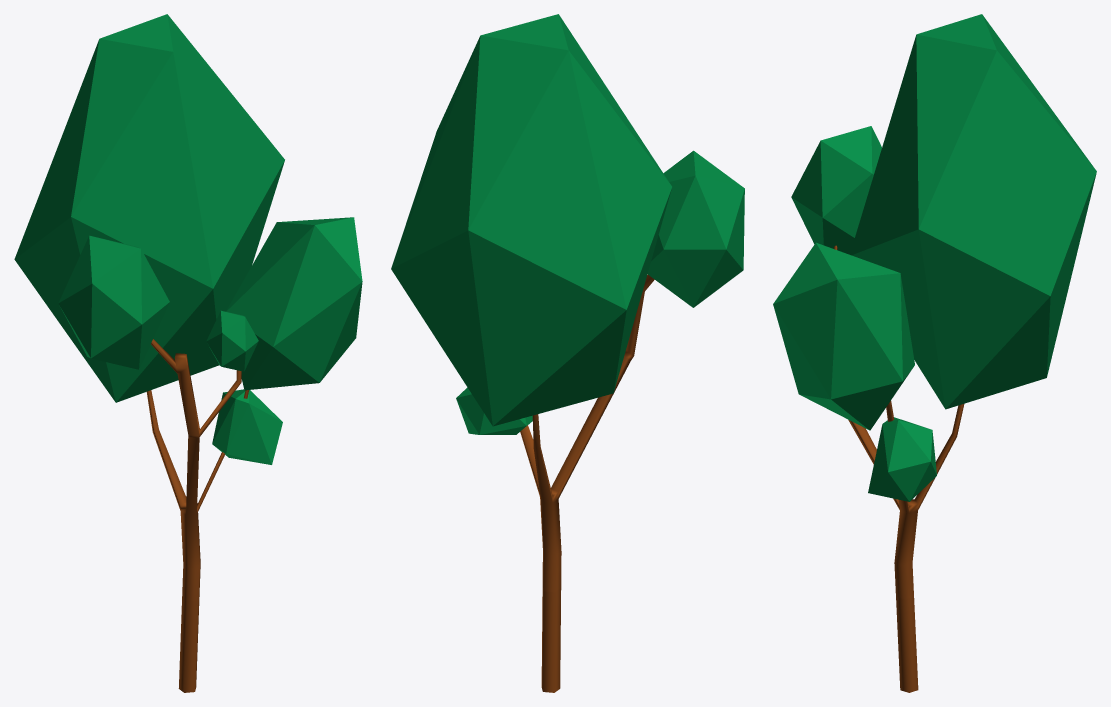
Rendered from Tree_Small.fbx.
3 views of the same model, side by side, from view 1: azimuth 30°, elevation 25°; view 2: azimuth 150°, elevation 25°; view 3: azimuth 270°, elevation 25° (orthographic). The views are drawn at different scales.
Parts seen in each view (by area): view 1: Tree_Small_Foliage, Tree_Small_Trunk, Tree_Small_Base; view 2: Tree_Small_Foliage, Tree_Small_Trunk, Tree_Small_Base; view 3: Tree_Small_Foliage, Tree_Small_Trunk, Tree_Small_Base.
Part boxes in pixels (x1,y1,x2,y2): Tree_Small_Foliage: (14, 14, 362, 464); Tree_Small_Trunk: (146, 339, 249, 601); Tree_Small_Base: (178, 596, 199, 692); Tree_Small_Foliage: (391, 14, 744, 434); Tree_Small_Trunk: (520, 274, 654, 592); Tree_Small_Base: (541, 587, 561, 692); Tree_Small_Foliage: (773, 14, 1096, 501); Tree_Small_Trunk: (833, 245, 964, 599); Tree_Small_Base: (896, 597, 918, 692).
Bounding box in the file's own units: 193 × 423 × 191.
